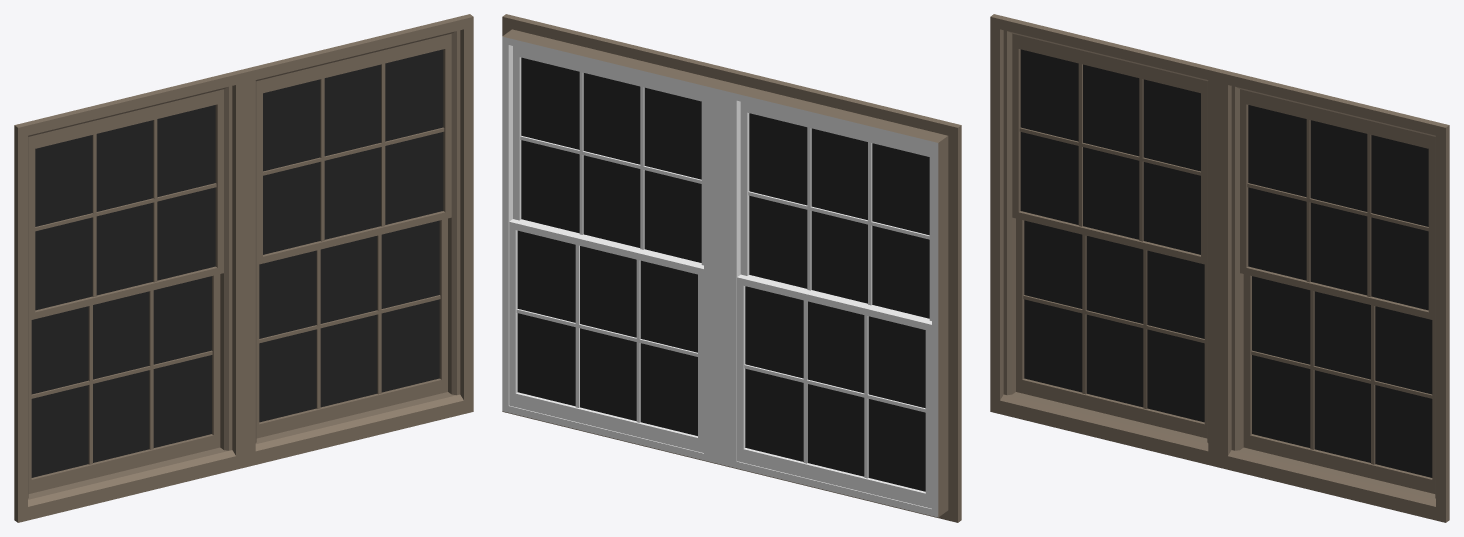
3 renders of one model, left to right at view 1: azimuth 30°, elevation 25°; view 2: azimuth 150°, elevation 25°; view 3: azimuth 330°, elevation 25°, orthographic.
Visible parts, largest first — view 1: Group#22_001; view 2: Group#22_001; view 3: Group#22_001.
Part boxes in pixels (left/top/right/bottom): Group#22_001: left=14, top=14, right=473, bottom=522; Group#22_001: left=502, top=14, right=961, bottom=522; Group#22_001: left=990, top=14, right=1449, bottom=522.
Size of the model in its own units: 1778 by 1473 by 92.07.
